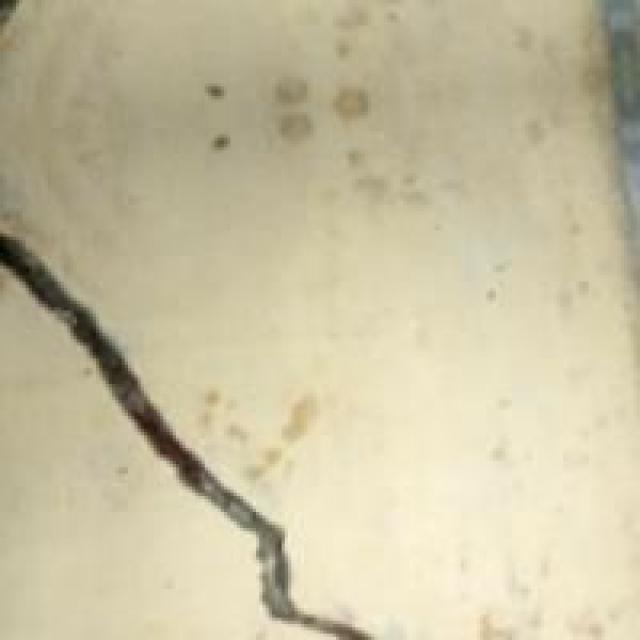crack: (0, 214, 390, 636)
